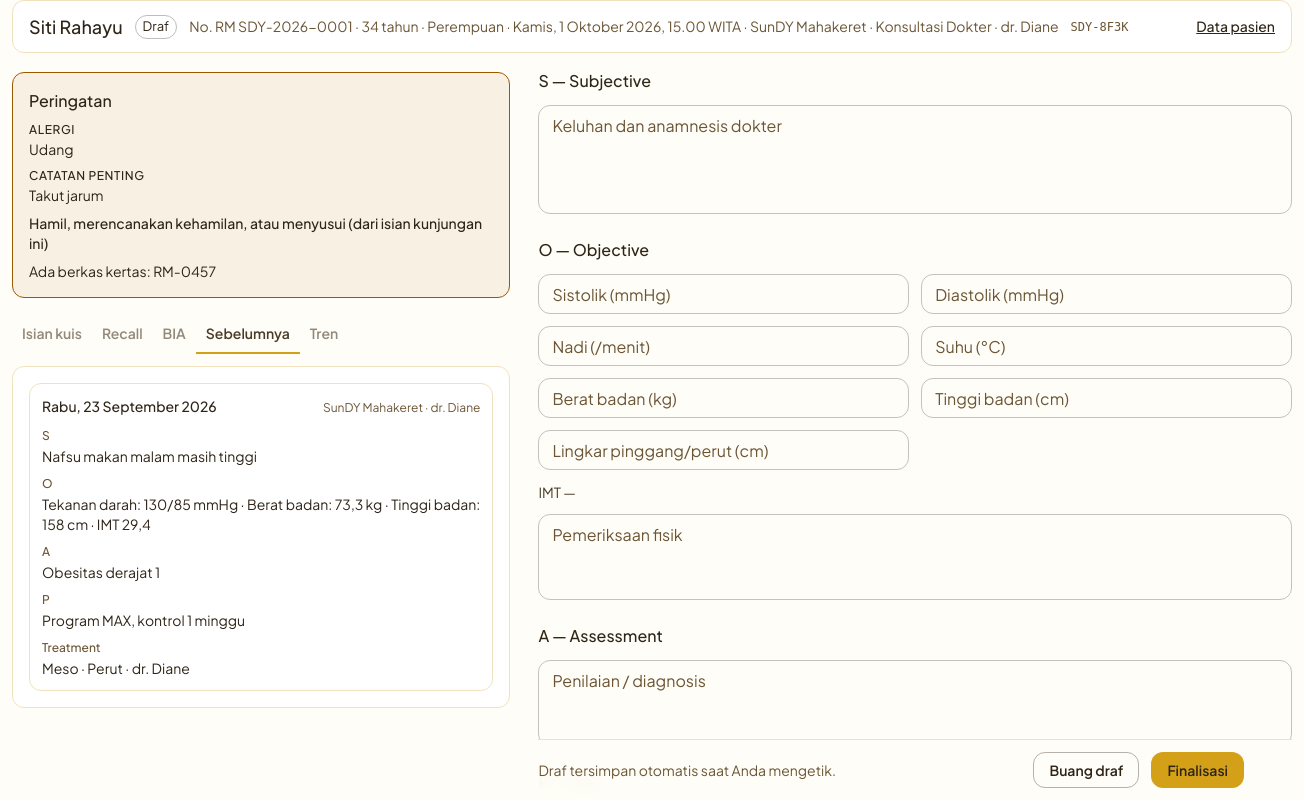
Scenario: EncounterPageView › mengetik berat langsung mengubah baris Kunjungan ini di tab Tren
Type "72,5" into the field labelled "Berat badan (kg)" at (724, 398), box top-left (538, 378), bottom-right (909, 418)
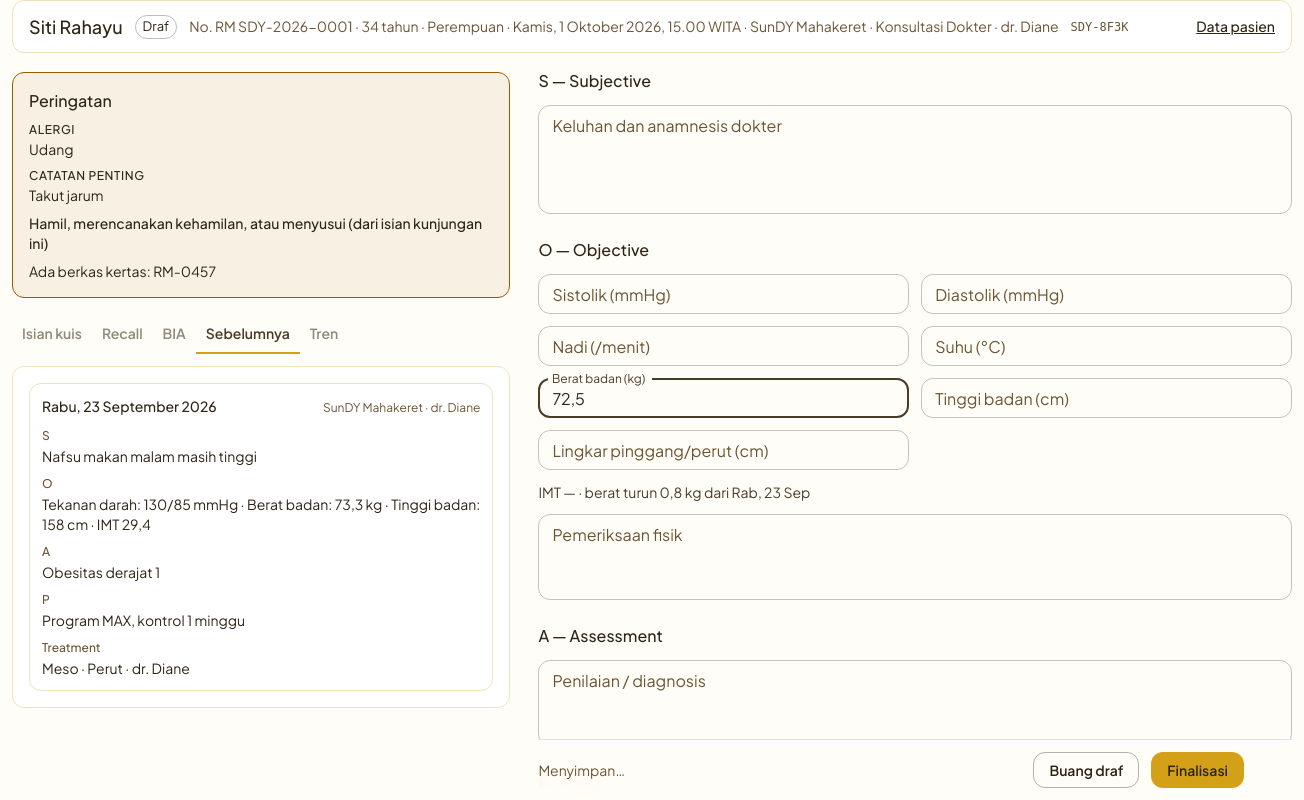
Click the tab "Tren" at (324, 334), box top-left (300, 314), bottom-right (348, 354)
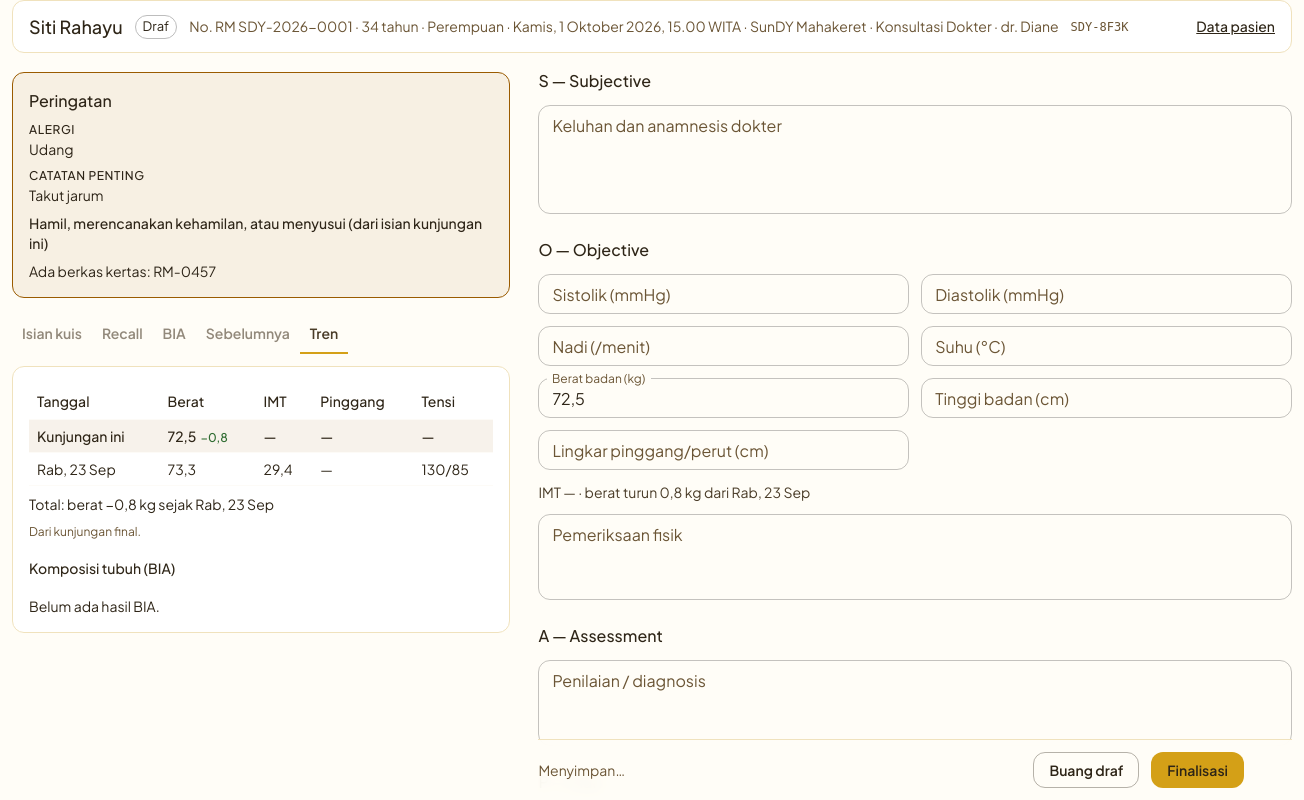
Now the row "Kunjungan ini 72,5−0,8 — — —" is shown, box top-left (29, 420), bottom-right (493, 453)
